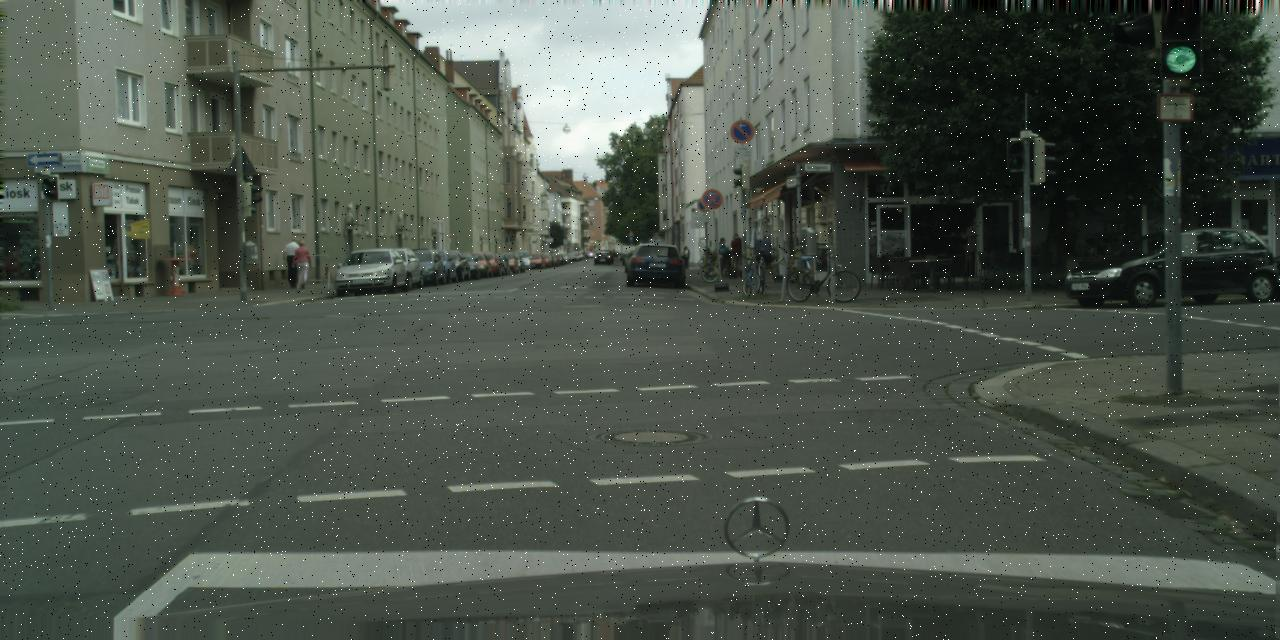ped: (283, 238, 303, 286), (291, 240, 311, 288), (726, 232, 744, 277), (714, 237, 729, 276), (681, 246, 690, 268), (584, 253, 587, 260)
